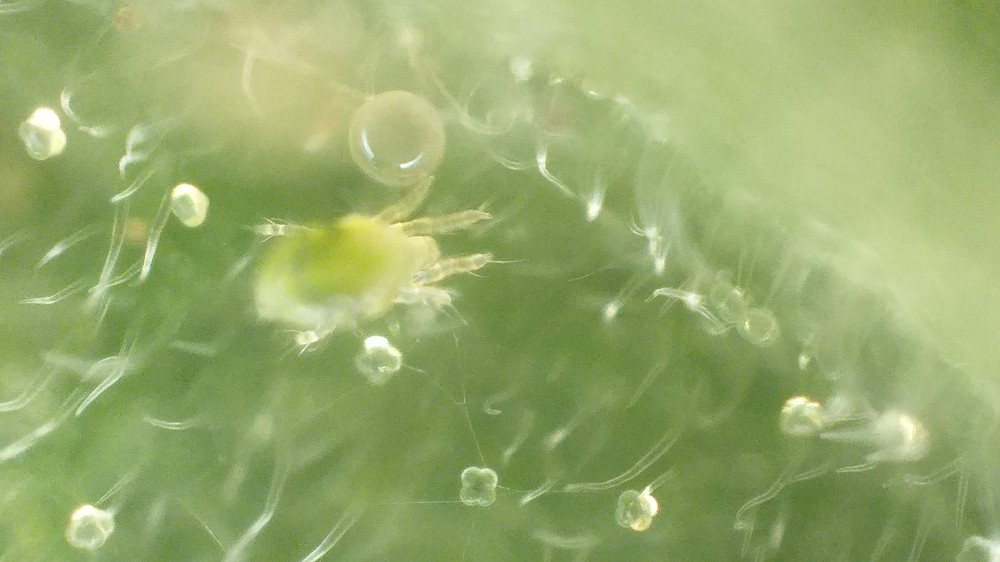Aracnido Rojo: (242, 190, 517, 348)
